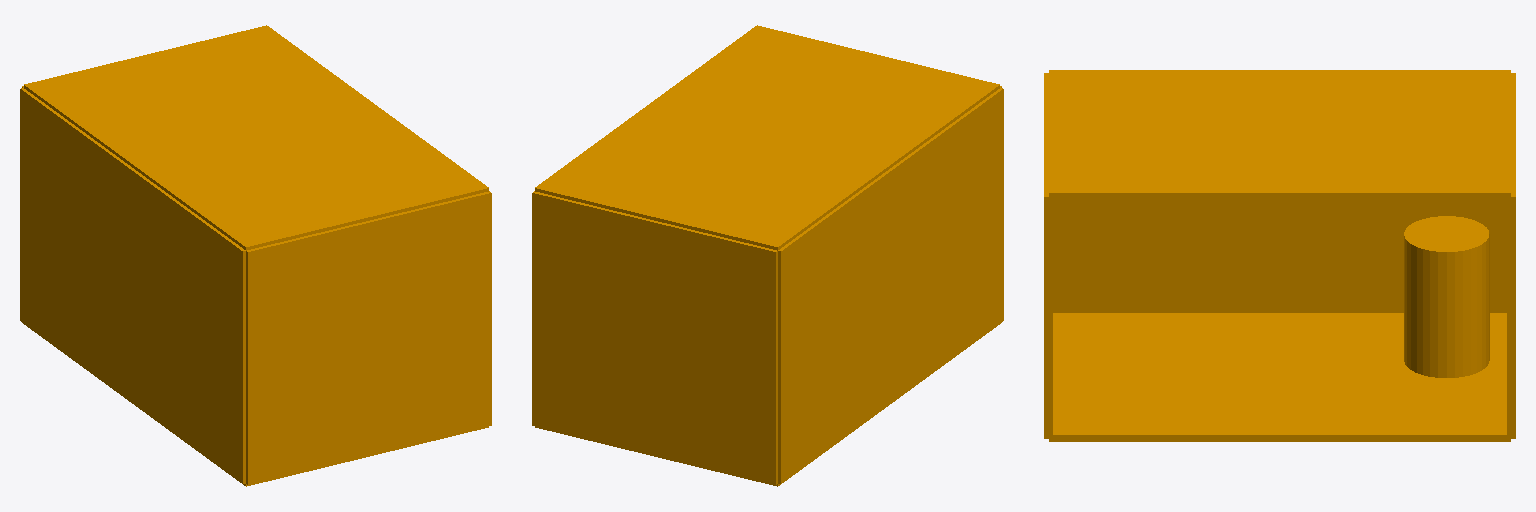
The robot description file, URDF, robot "syn_can_cabinet_2957":
<?xml version="1.0" ?>
<robot name="syn_can_cabinet_2957">
    <link concave="yes" name="base_link">
        <inertial>
            <origin rpy="0 0 0" xyz="0 0 0"/>
            <mass value="0.0"/>
            <inertia ixx="1e-08" ixy="0" ixz="0" iyy="1e-08" iyz="0" izz="1e-08"/>
        </inertial>
        <visual>
            <origin xyz="0 0 0" rpy="0 0 0" />
            <geometry>
                <mesh filename="syn_can_cabinet_2957.obj" scale="1.000000 1.000000 1.000000"/>
            </geometry>         
        </visual>

        <collision concave="yes">
            <origin xyz="0 0 0" rpy="0 0 0"/>
            <geometry>
                <mesh filename="syn_can_cabinet_2957.obj" scale="1.000000 1.000000 1.000000"/>
            </geometry>
        </collision>
    </link>
</robot>
    

--- Render facts (derived) ---
The picture shows the robot from 3 angles, left to right: view 1: azimuth 30°, elevation 25°; view 2: azimuth 150°, elevation 25°; view 3: azimuth 270°, elevation 25°; orthographic projection.
Model syn_can_cabinet_2957 with 1 links and 0 joints (none), rooted at base_link, posed every joint at zero.
Links seen in each view (by area): view 1: base_link; view 2: base_link; view 3: base_link.
Link boxes in pixels (x1,y1,x2,y2): base_link: [20, 25, 491, 486]; base_link: [532, 25, 1003, 486]; base_link: [1044, 70, 1515, 441].
Bounding box of the posed robot: 0.2079 × 0.3307 × 0.1928 m (x, y, z).
1 mesh visuals loaded from 1 distinct referenced files (1 OBJ).
